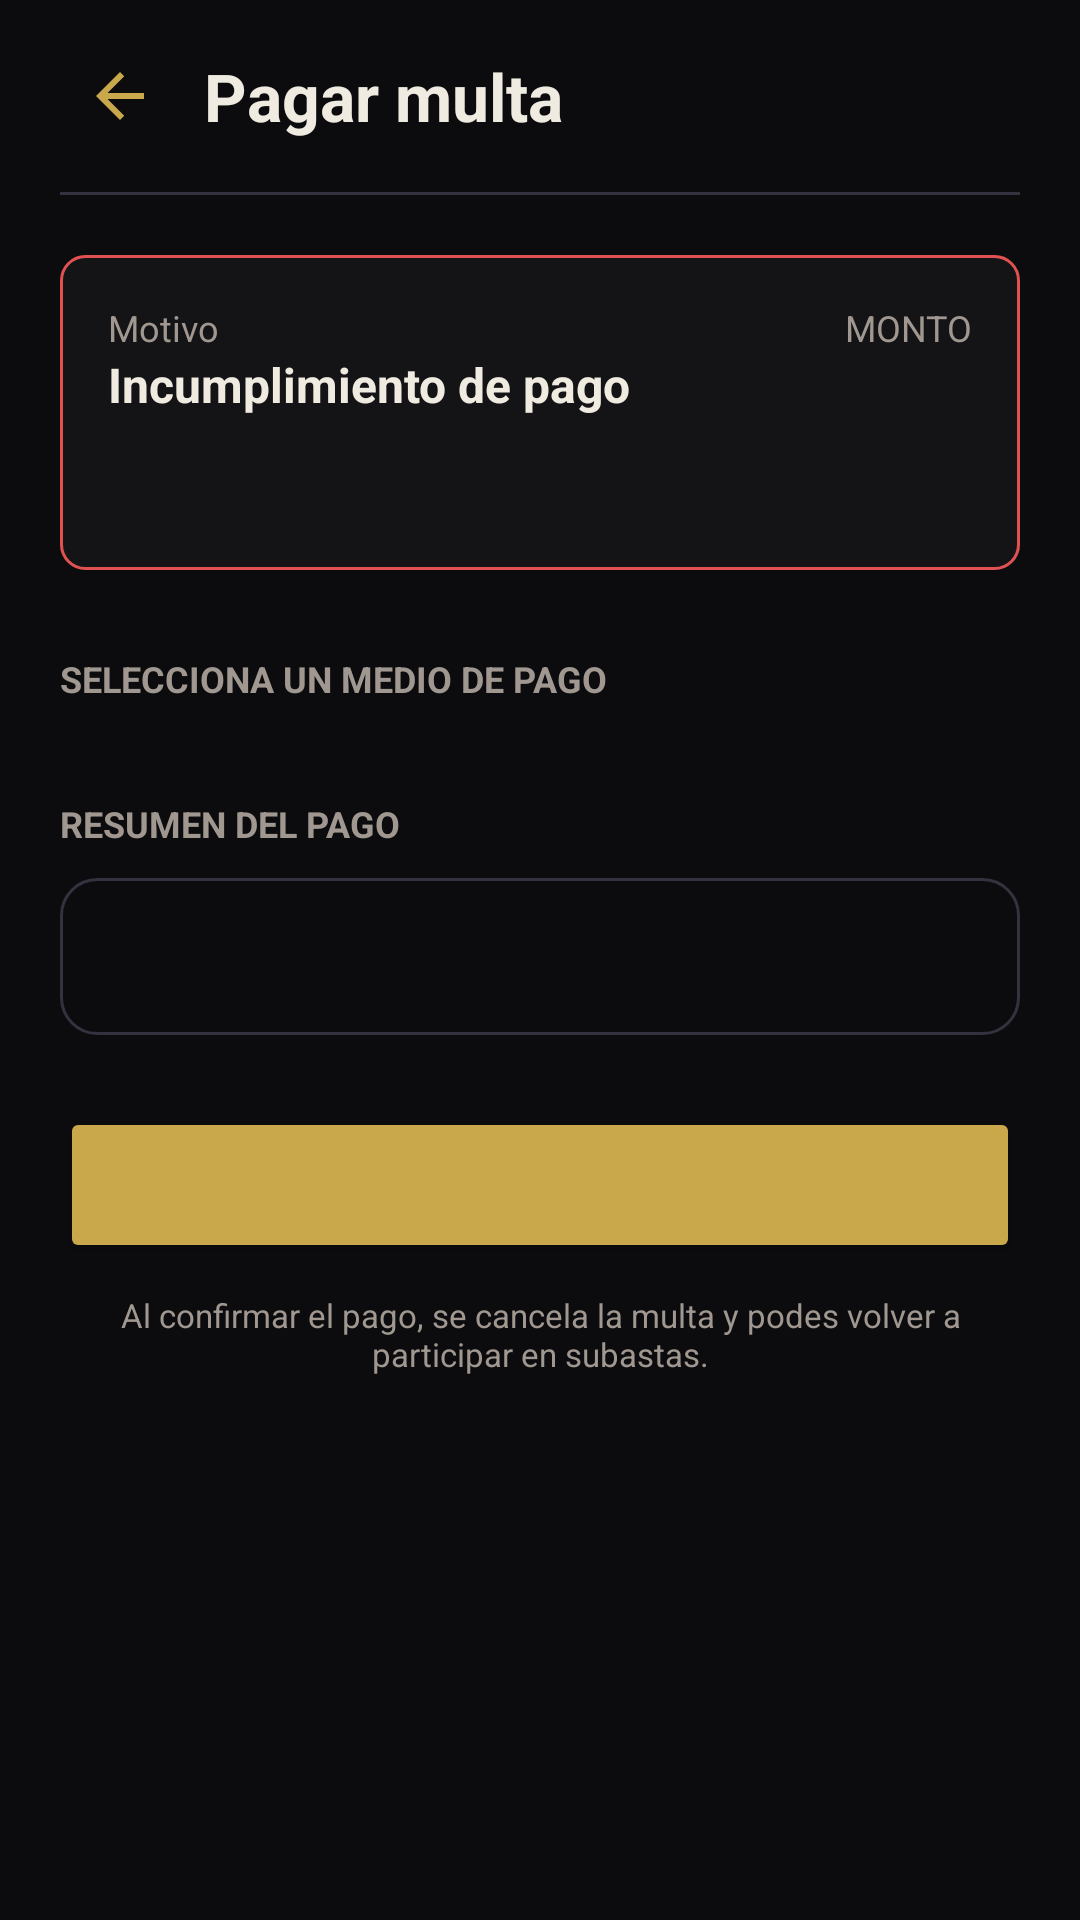

Icon click points for this 1080px x 1920px phone screenshot, format (x,y):
Volver: (120,96)
